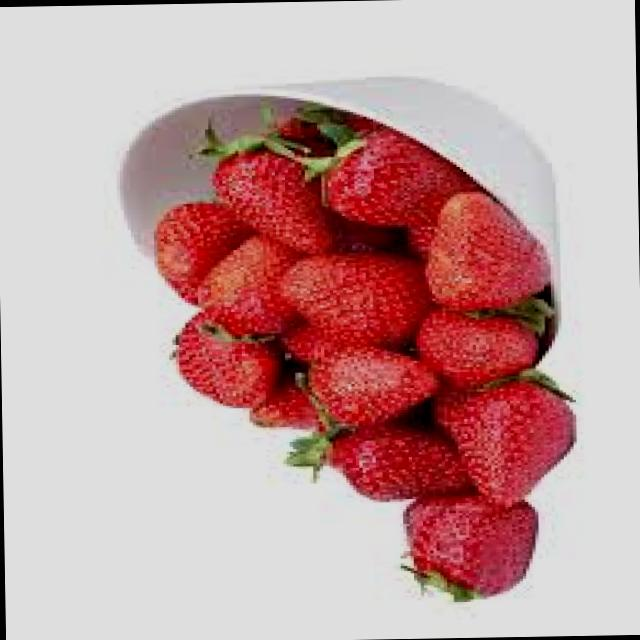strawberry: (437, 376, 595, 507), (398, 178, 550, 308), (205, 121, 326, 261), (389, 490, 543, 597), (294, 342, 439, 424), (190, 238, 292, 350)
